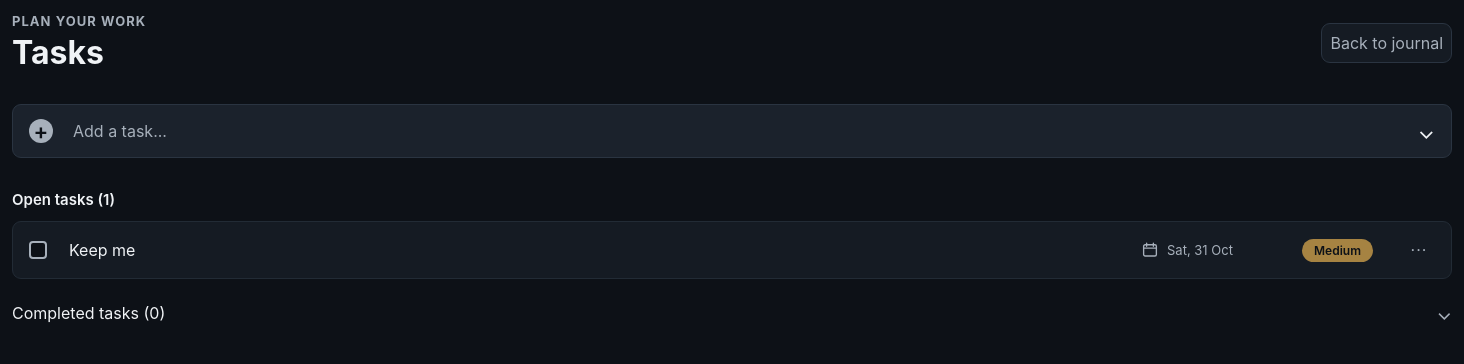
Test: TasksPage › keeps an existing task after an update failure
Click the checkbox named "Complete Keep me". click: (38, 250)
box: 29,241 -> 47,259
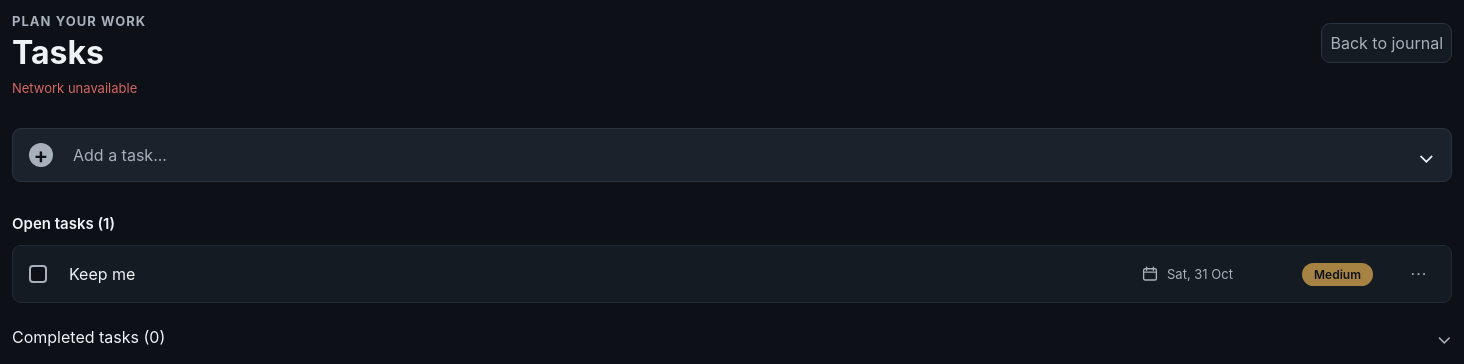
Check: the button "Keep me" is shown, box 69,260 -> 1125,288
Check: the message reads "Network unavailable", box 12,80 -> 137,96
